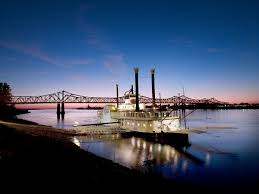boat: (108, 65, 193, 146)
